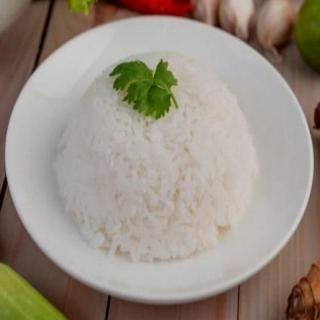Nasi: (51, 49, 261, 265)
